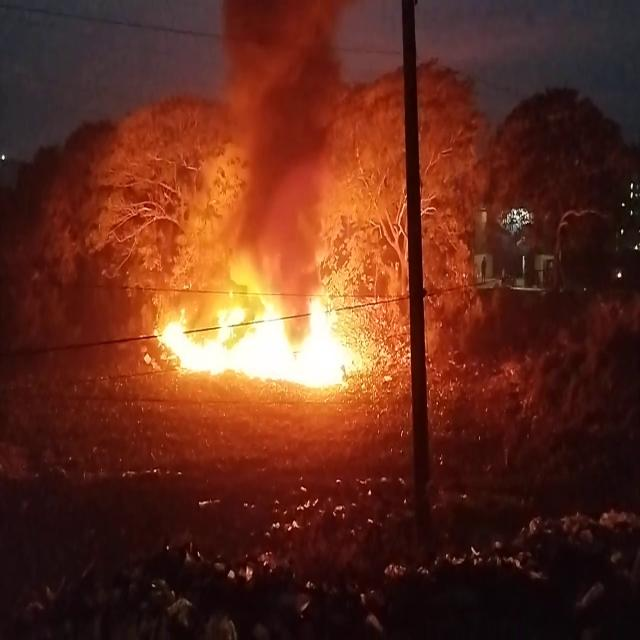Fire: (147, 284, 370, 399)
Smoke: (191, 0, 398, 278)
